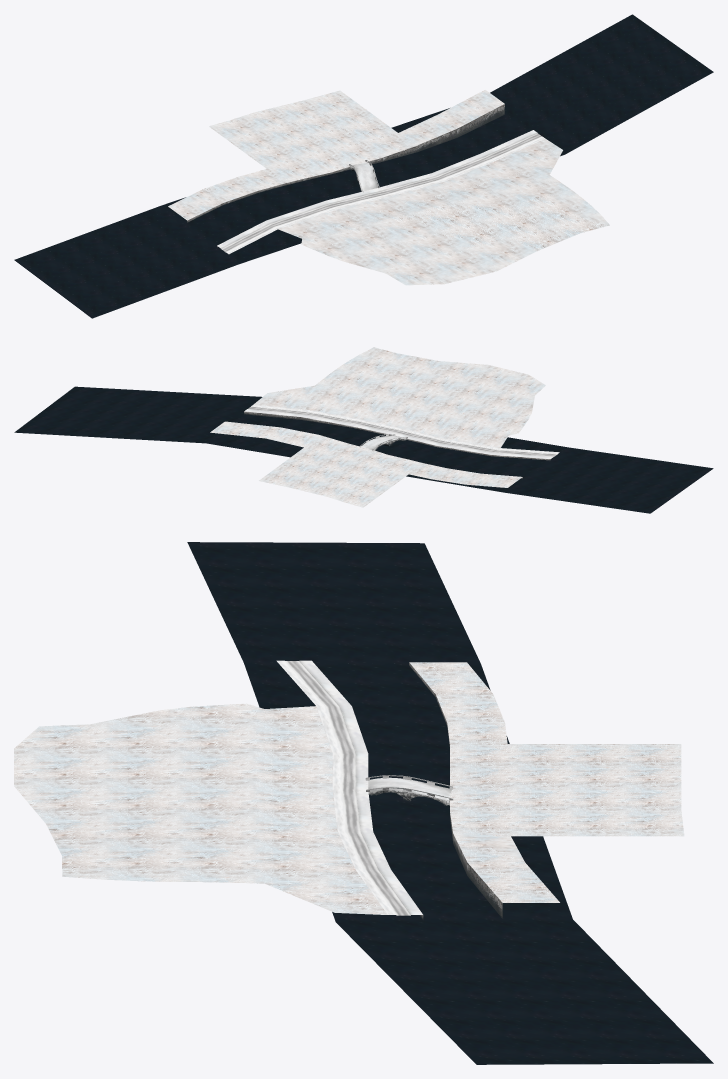
File: lvl_v2.glb
The picture shows the model from 3 angles, top to bottom: view 1: azimuth 30°, elevation 25°; view 2: azimuth 150°, elevation 25°; view 3: azimuth 270°, elevation 25°; orthographic projection. The views are drawn at different scales.
Visible parts, largest first — view 1: Plane, Cube.021, Cube.041, Cube.044; view 2: Plane, Cube.021, Cube.041, Cube.044; view 3: Plane, Cube.021, Cube.041, Cube.044.
Part boxes in pixels (x1,y1,x2,y2): Plane: (14, 14, 713, 318); Cube.021: (217, 130, 609, 285); Cube.041: (168, 89, 504, 222); Cube.044: (350, 162, 378, 191); Plane: (14, 386, 713, 513); Cube.021: (244, 347, 559, 460); Cube.041: (210, 421, 522, 507); Cube.044: (361, 435, 407, 450); Plane: (187, 542, 713, 1064); Cube.021: (14, 660, 423, 919); Cube.041: (409, 662, 684, 918); Cube.044: (368, 777, 452, 805).
Size of the model in its own units: 371 by 15.19 by 210.
Materials: 5 (5 with a texture image).
